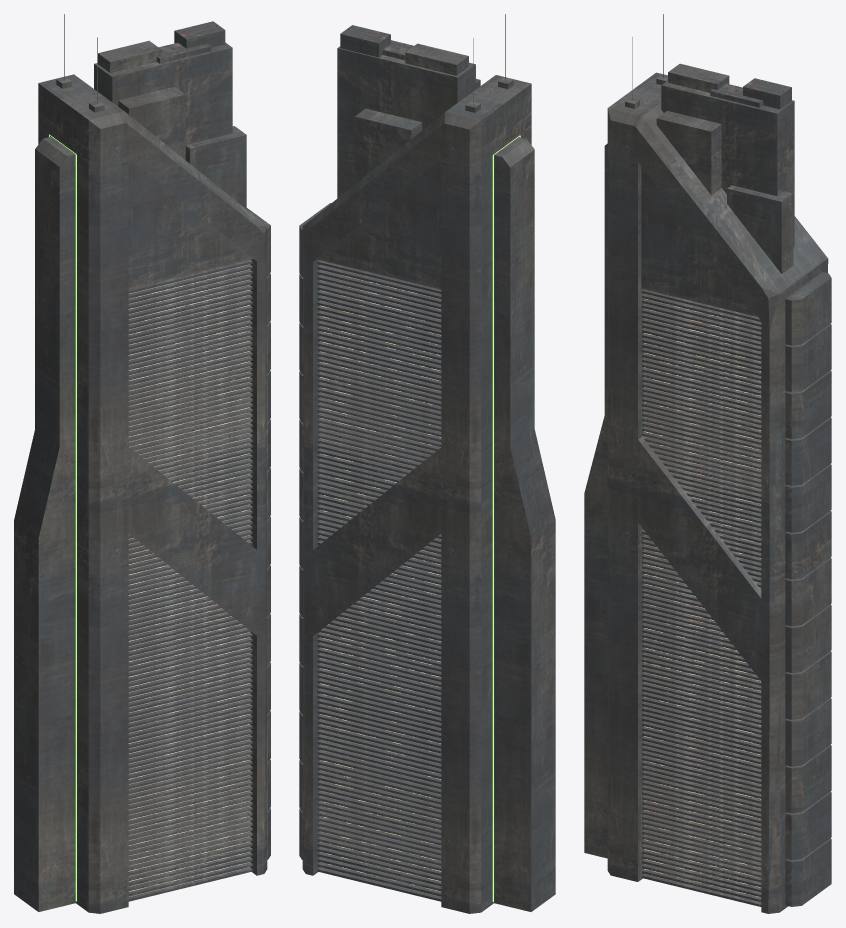
The model's file is sci-fi-brutalist-tower.glb.
3 renders of one model, left to right at view 1: azimuth 30°, elevation 25°; view 2: azimuth 150°, elevation 25°; view 3: azimuth 330°, elevation 25°, orthographic. The views are drawn at different scales.
Visible parts, largest first — view 1: Building_7; view 2: Building_7; view 3: Building_7.
Boxes of the visible parts, bbox=[...] form: Building_7: bbox=[14, 14, 270, 913]; Building_7: bbox=[299, 14, 555, 913]; Building_7: bbox=[584, 14, 831, 913].
Size of the model in its own units: 201 by 724 by 89.63.
6 materials, 2 textured.
